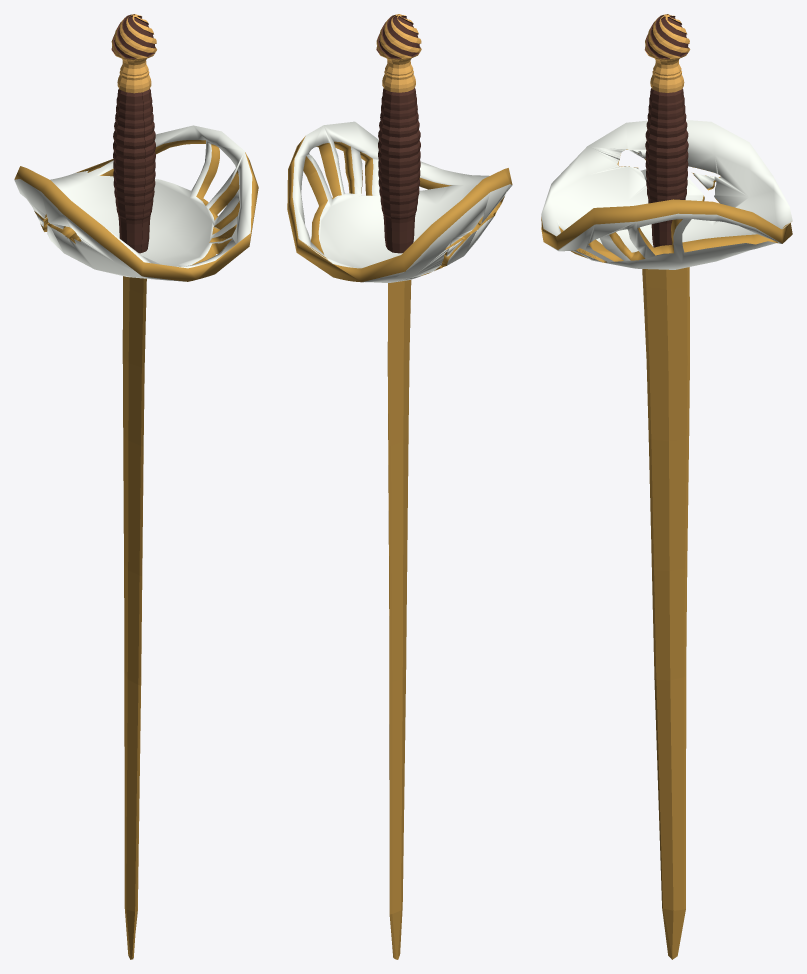
The model's file is Epee.fbx.
3 renders of one model, left to right at view 1: azimuth 30°, elevation 25°; view 2: azimuth 150°, elevation 25°; view 3: azimuth 270°, elevation 25°, orthographic.
Parts seen in each view (by area): view 1: Plane.001, Plane.002, Plane.003; view 2: Plane.001, Plane.002, Plane.003; view 3: Plane.001, Plane.002, Plane.003.
Part boxes in pixels (x1=…): Plane.001: x1=14, y1=125, x2=258, y2=281; Plane.002: x1=122, y1=276, x2=146, y2=959; Plane.003: x1=111, y1=14, x2=156, y2=253; Plane.001: x1=287, y1=121, x2=512, y2=282; Plane.002: x1=387, y1=280, x2=411, y2=959; Plane.003: x1=376, y1=14, x2=421, y2=253; Plane.001: x1=541, y1=120, x2=792, y2=269; Plane.002: x1=642, y1=267, x2=689, y2=959; Plane.003: x1=644, y1=14, x2=690, y2=247.
Bounding box in the file's own units: 130 × 609 × 147.
